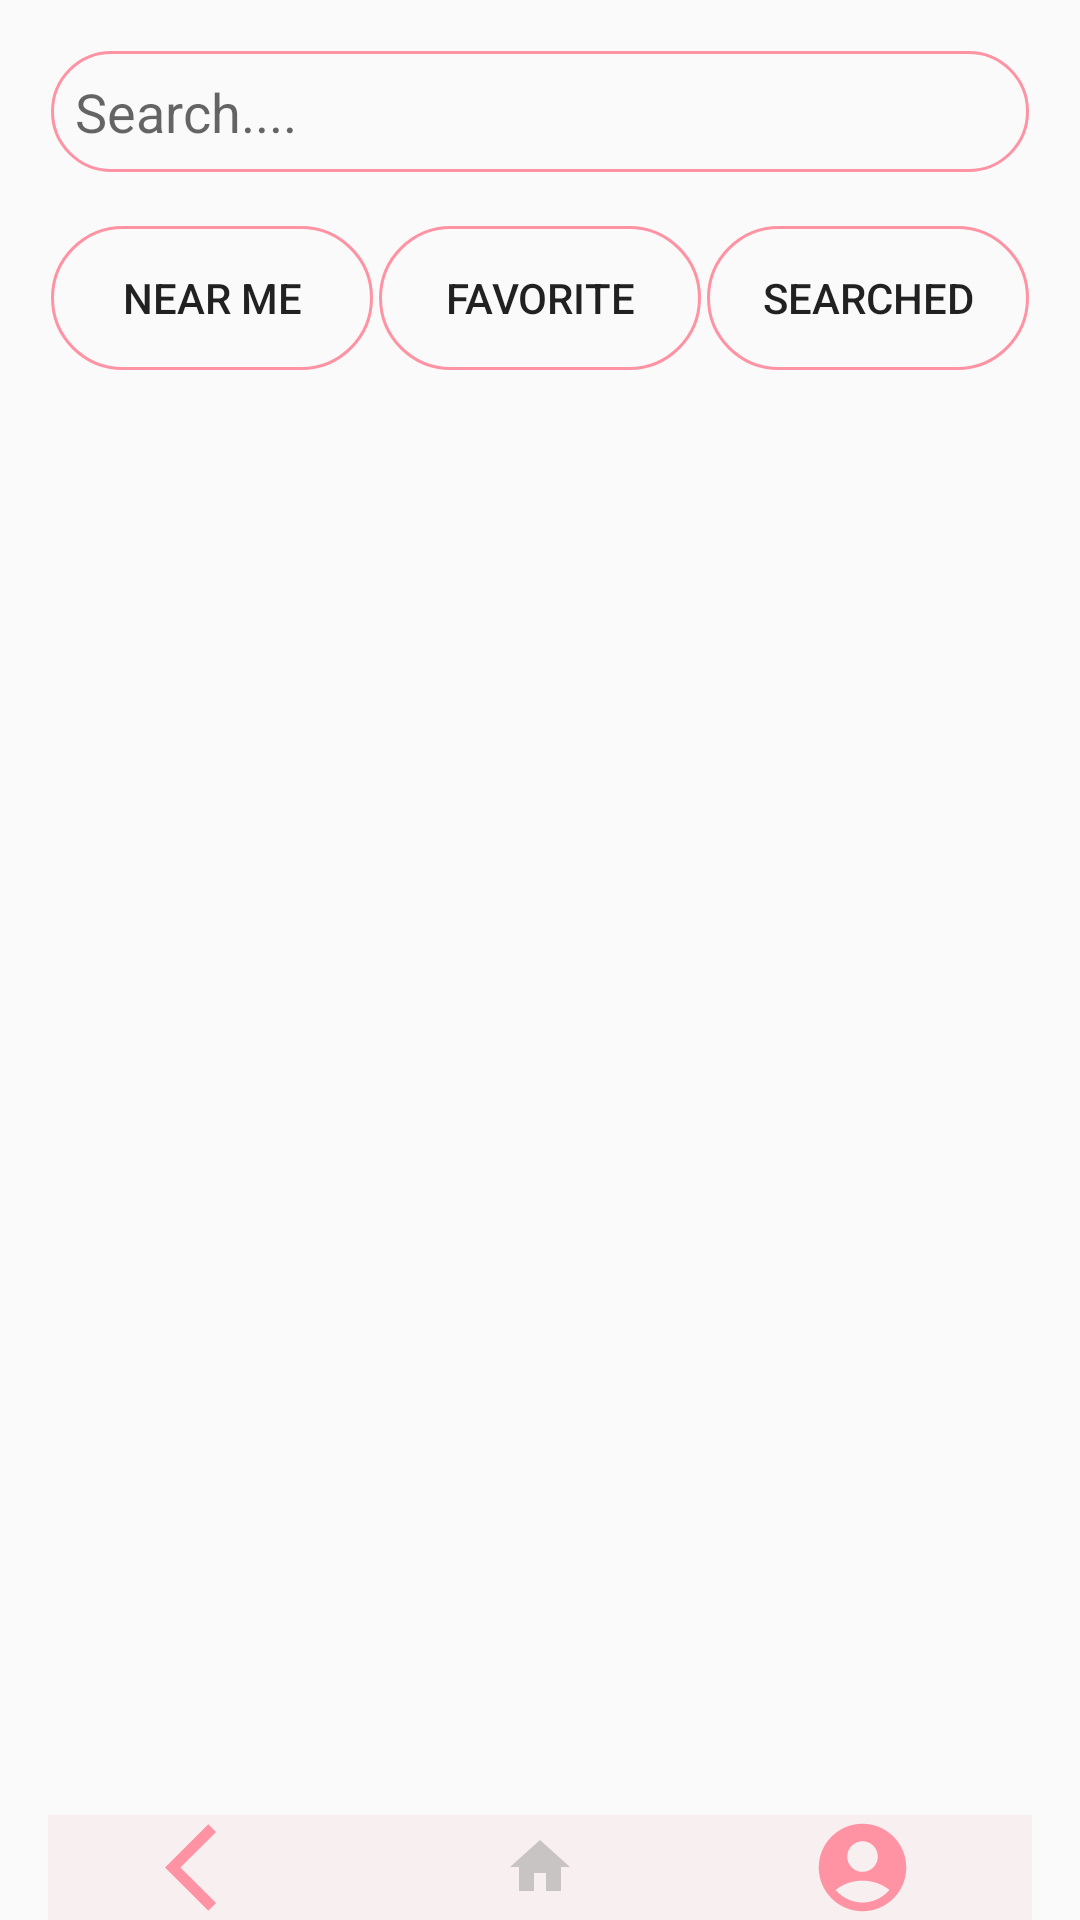

Icons on this 1080 × 1920 Android screen, each with the point to tap as point (x, y):
account circle: point (862, 1867)
home: point (540, 1865)
